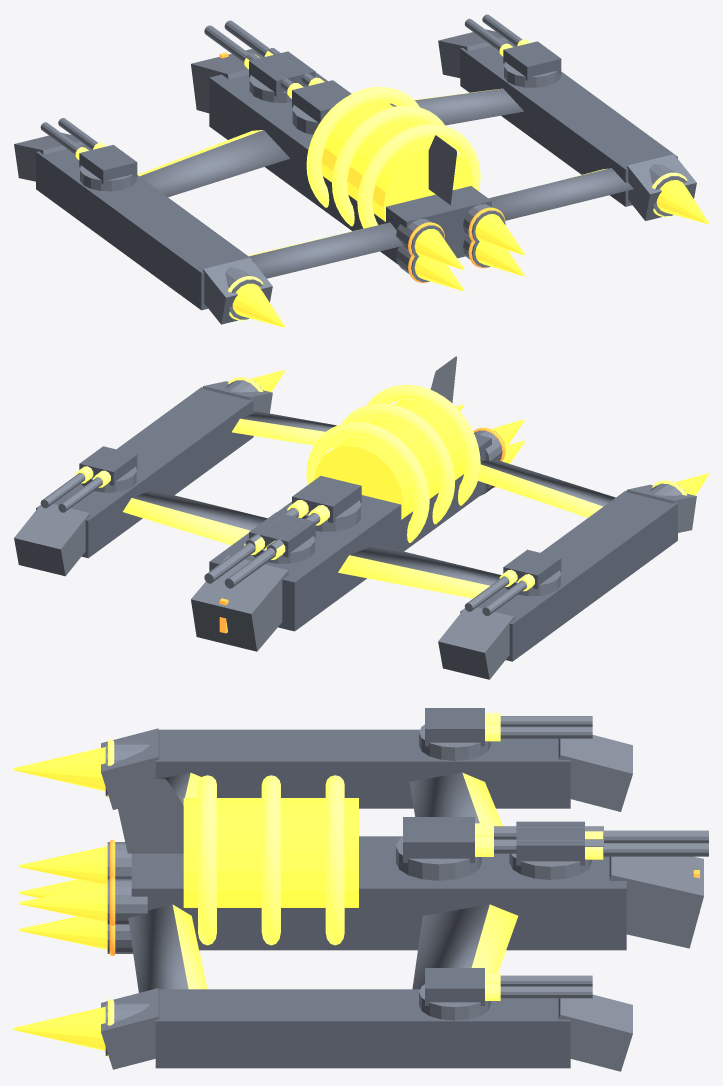
Rendered from Valkiria_Boss.glb.
The picture shows the model from 3 angles, top to bottom: view 1: azimuth 30°, elevation 25°; view 2: azimuth 150°, elevation 25°; view 3: azimuth 270°, elevation 25°; orthographic projection. The views are drawn at different scales.
Visible parts, largest first — view 1: Cube.005, Cube.009, Cube, nucleoJefe, Truss_Delantero_Valkiria_-1.0, Truss_Trasero_Valkiria_-1.0, Truss_Trasero_Valkiria_1.0, Torus.002, Torus.001, Torus, Truss_Delantero_Valkiria_1.0, Cube.007 (+24 smaller); view 2: Cube.005, Cube.009, Cube, nucleoJefe, Cube.001, Truss_Delantero_Valkiria_-1.0, Truss_Delantero_Valkiria_1.0, Cube.010, Cube.006, Truss_Trasero_Valkiria_-1.0, Torus, Torus.001 (+16 smaller); view 3: Cube.009, Cube, Cube.005, nucleoJefe, Cube.001, Truss_Delantero_Valkiria_1.0, Truss_Trasero_Valkiria_1.0, Deriva_Valkiria, Cube.006, Cube.010, Truss_Delantero_Valkiria_-1.0, Torus (+31 smaller).
Part boxes in pixels (x1,y1,x2,y2): Cube.005: (36, 144, 253, 310); Cube.009: (460, 41, 677, 206); Cube: (209, 72, 491, 264); nucleoJefe: (321, 102, 473, 221); Truss_Delantero_Valkiria_-1.0: (137, 130, 289, 197); Truss_Trasero_Valkiria_-1.0: (248, 222, 404, 278); Truss_Trasero_Valkiria_1.0: (488, 168, 633, 220); Torus.002: (357, 124, 480, 228); Torus.001: (332, 105, 453, 226); Torus: (306, 87, 421, 207); Truss_Delantero_Valkiria_1.0: (389, 88, 523, 125); Cube.007: (203, 257, 272, 324); Cube.005: (460, 490, 677, 661); Cube.009: (36, 387, 253, 558); Cube: (209, 434, 491, 631); nucleoJefe: (314, 399, 465, 519); Cube.001: (191, 555, 288, 651); Truss_Delantero_Valkiria_-1.0: (338, 545, 501, 598); Truss_Delantero_Valkiria_1.0: (123, 490, 267, 545); Cube.010: (14, 504, 90, 576); Cube.006: (438, 607, 514, 679); Truss_Trasero_Valkiria_-1.0: (478, 460, 615, 517); Torus: (306, 422, 429, 542); Torus.001: (332, 403, 454, 524); Cube.009: (155, 989, 570, 1068); Cube: (131, 836, 626, 950); Cube.005: (155, 729, 570, 808); nucleoJefe: (183, 798, 358, 907); Cube.001: (609, 856, 703, 948); Truss_Delantero_Valkiria_1.0: (412, 904, 518, 989); Truss_Trasero_Valkiria_1.0: (128, 904, 207, 992); Deriva_Valkiria: (111, 779, 183, 853); Cube.006: (558, 735, 632, 811); Cube.010: (558, 994, 632, 1071); Truss_Delantero_Valkiria_-1.0: (409, 772, 502, 826); Torus: (325, 775, 344, 950).
Size of the model in its own units: 8.65 by 2.26 by 8.71.
